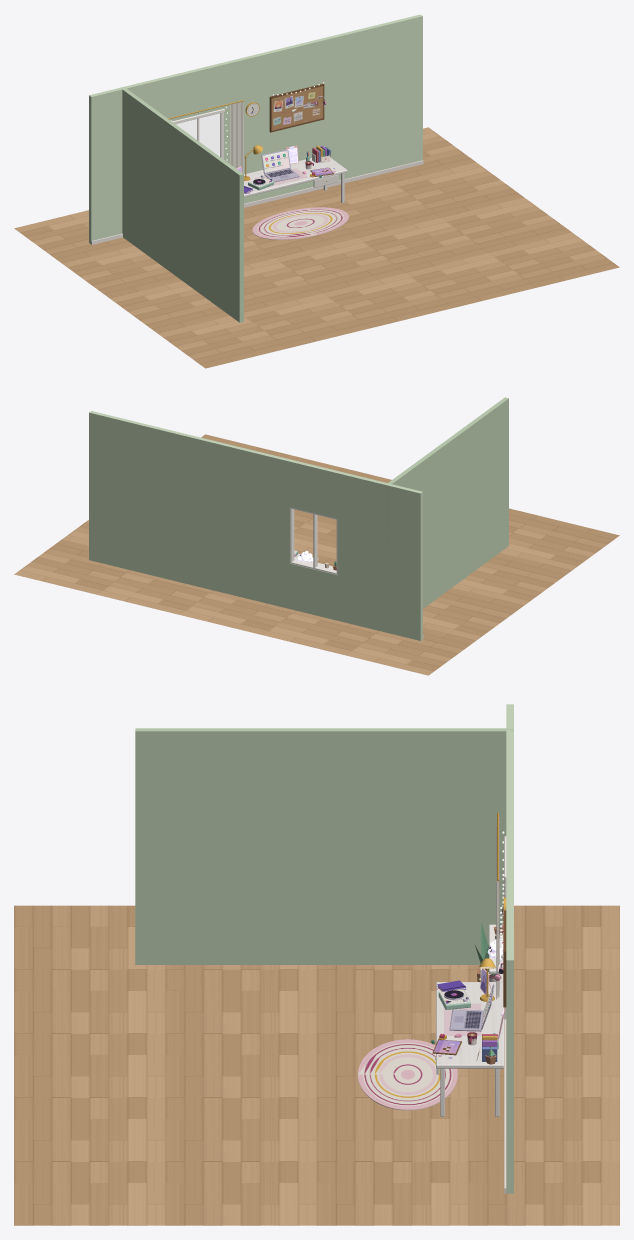
The model's file is room.glb.
The picture shows the model from 3 angles, top to bottom: view 1: azimuth 30°, elevation 25°; view 2: azimuth 150°, elevation 25°; view 3: azimuth 270°, elevation 25°; orthographic projection. The views are drawn at different scales.
Parts seen in each view (by area): view 1: bk_0, bk_2, bk_5, bk_1, bk_7, bk_4, object 40, bk_17, nb_27_oz6t, bk_6, bk_48; view 2: bk_2, bk_0, bk_5, bk_1, bk_4, bk_3; view 3: bk_0, bk_5, bk_7, bk_2, bk_17.
Part boxes in pixels (x1,y1,x2,y2): bk_0: [14, 127, 619, 368]; bk_2: [220, 14, 422, 203]; bk_5: [120, 87, 243, 322]; bk_1: [89, 75, 174, 243]; bk_7: [252, 207, 348, 239]; bk_4: [172, 63, 221, 120]; object 40: [269, 83, 324, 132]; bk_17: [244, 157, 347, 197]; nb_27_oz6t: [176, 113, 220, 156]; bk_6: [91, 160, 423, 244]; bk_48: [230, 102, 243, 173]; bk_2: [89, 411, 291, 608]; bk_0: [14, 434, 619, 675]; bk_5: [385, 397, 508, 631]; bk_1: [337, 471, 422, 640]; bk_4: [290, 460, 339, 518]; bk_3: [290, 563, 337, 620]; bk_0: [14, 905, 619, 1225]; bk_5: [135, 728, 513, 964]; bk_7: [358, 1039, 457, 1110]; bk_2: [506, 805, 513, 1193]; bk_17: [436, 982, 503, 1068].
Bounding box in the file's own units: 10 × 3.4 × 8.
162 materials, 19 textured.
